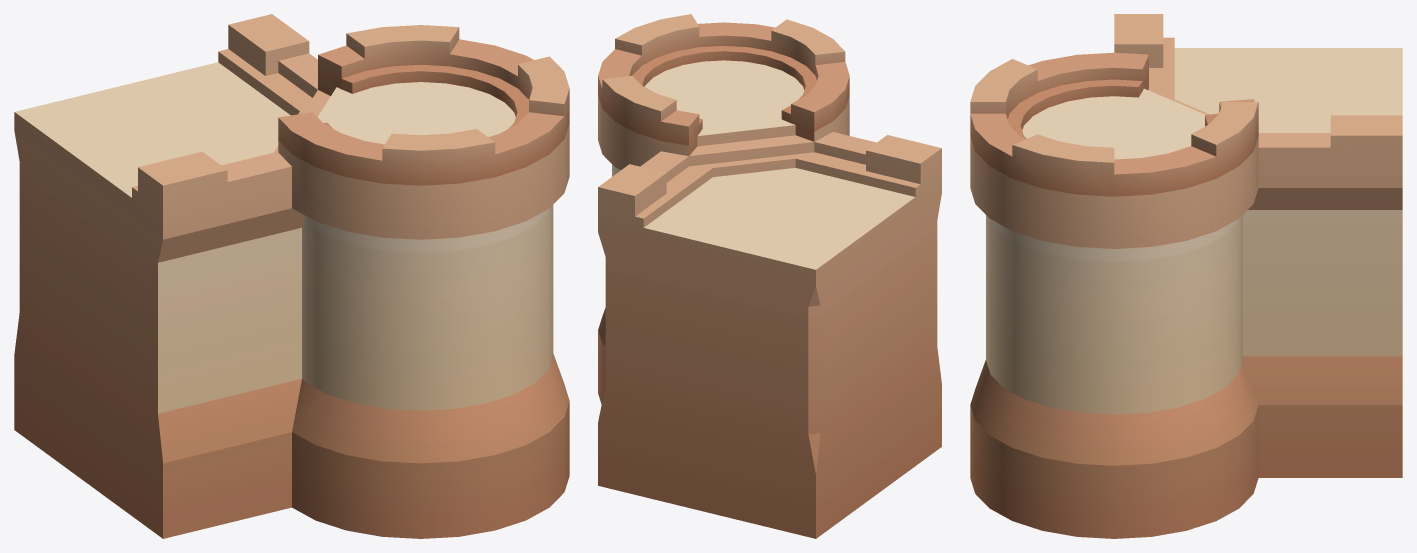
The model's file is wall-corner-half-tower.glb.
3 views of the same model, side by side, from view 1: azimuth 30°, elevation 25°; view 2: azimuth 150°, elevation 25°; view 3: azimuth 270°, elevation 25° (orthographic). The views are drawn at different scales.
Parts seen in each view (by area): view 1: wall-corner-half-tower; view 2: wall-corner-half-tower; view 3: wall-corner-half-tower.
Part boxes in pixels (<box>): wall-corner-half-tower: <box>14,14,569,538</box>; wall-corner-half-tower: <box>598,14,941,538</box>; wall-corner-half-tower: <box>970,14,1402,538</box>.
Size of the model in its own units: 1.5 by 1.44 by 1.5.
Materials: 1 (1 with a texture image).
